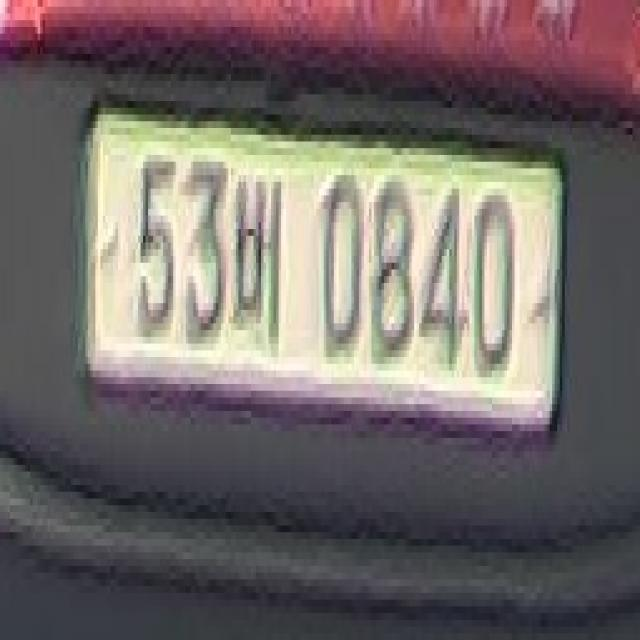0: (472, 182, 522, 391), (321, 162, 369, 364)
3: (181, 134, 223, 370)
4: (419, 155, 477, 391)
5: (130, 122, 180, 350)
8: (374, 175, 422, 391)
beo: (229, 148, 286, 357)
license_plate: (78, 108, 570, 451)
